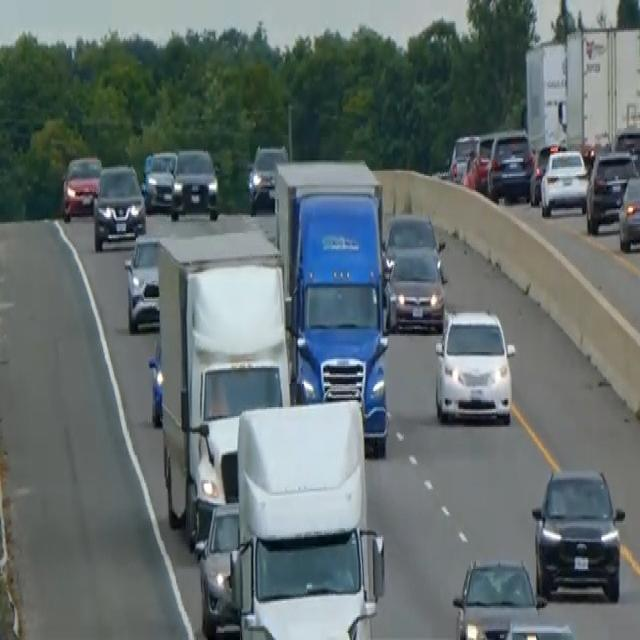car: (531, 464, 625, 603), (433, 306, 515, 425), (451, 555, 543, 638), (196, 500, 241, 638), (386, 244, 446, 332), (92, 162, 146, 250), (585, 146, 638, 234), (123, 233, 162, 332), (170, 146, 219, 220), (539, 146, 590, 217), (487, 130, 534, 202), (247, 142, 288, 212), (61, 153, 102, 220), (384, 210, 439, 258), (528, 140, 565, 204), (142, 148, 176, 212), (617, 172, 639, 252), (448, 132, 478, 183), (611, 123, 639, 174), (500, 620, 578, 638), (471, 132, 495, 190)
lorry: (228, 395, 386, 638), (273, 157, 393, 455)
